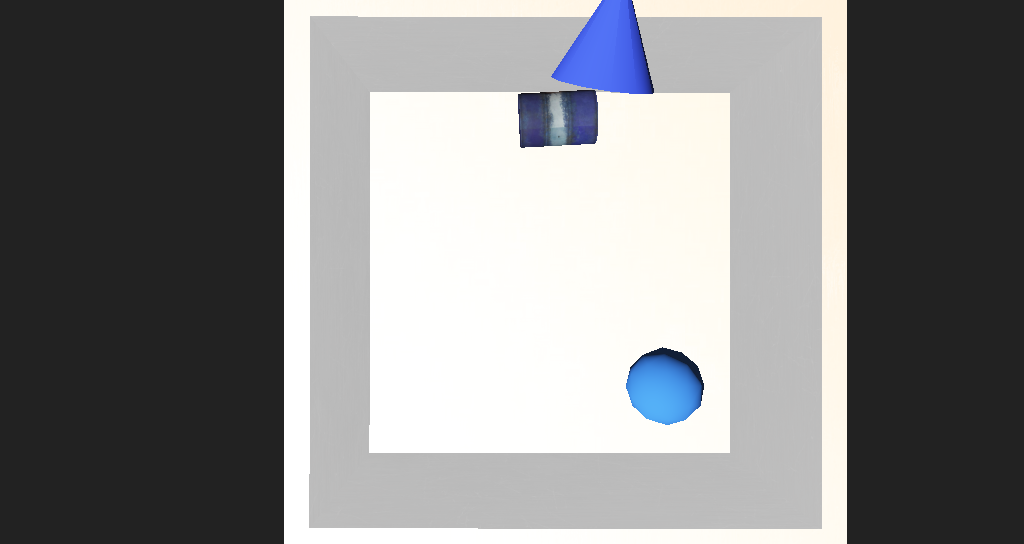cone: (478, 157, 546, 196)
cylinder: (495, 76, 596, 181)
sphere: (566, 310, 633, 358)
